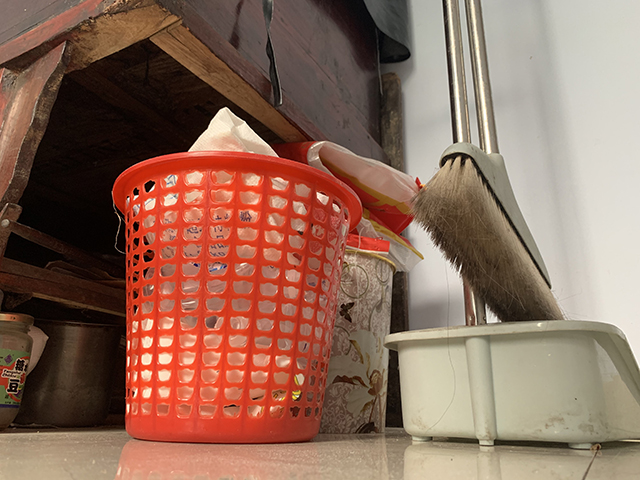trashcan: (107, 149, 365, 445), (318, 246, 398, 437)
